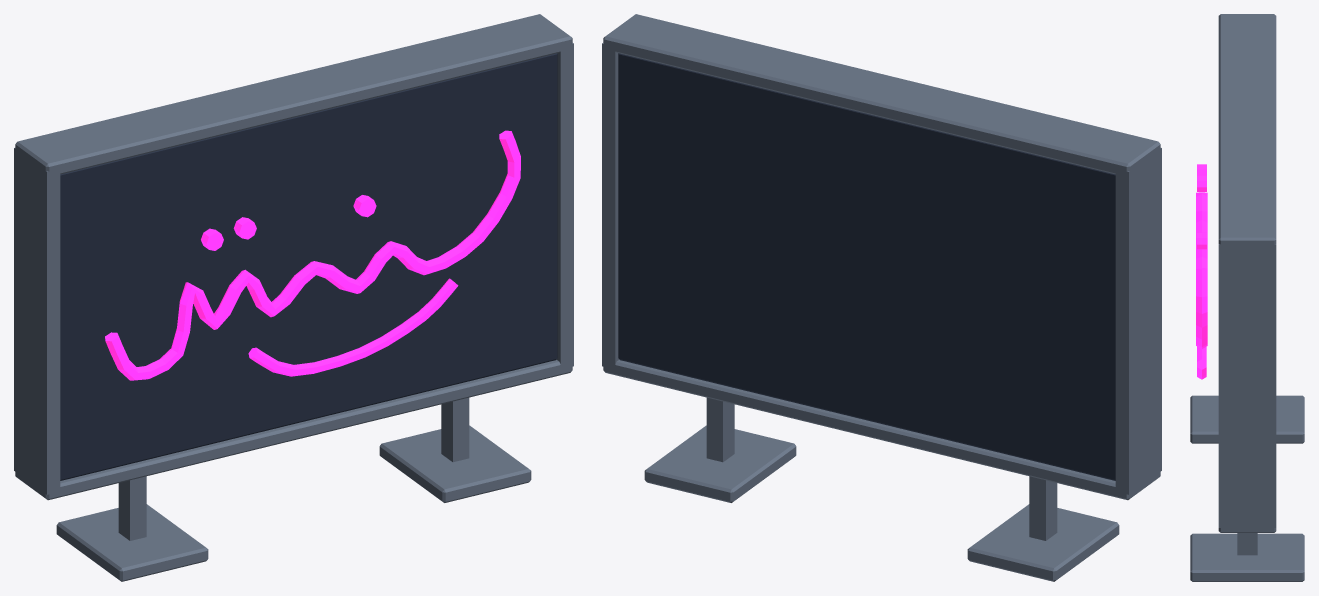
File: neon-sign.glb
3 views of the same model, side by side, from view 1: azimuth 30°, elevation 25°; view 2: azimuth 150°, elevation 25°; view 3: azimuth 270°, elevation 25° (orthographic). The views are drawn at different scales.
Parts seen in each view (by area): view 1: neon-sign; view 2: neon-sign; view 3: neon-sign.
Boxes of the visible parts, box(x1,y1,x2,y2) form: neon-sign: box(14, 14, 573, 581); neon-sign: box(602, 14, 1161, 581); neon-sign: box(1190, 14, 1304, 581).
Bounding box in the file's own units: 0.48 × 0.366 × 0.103.
